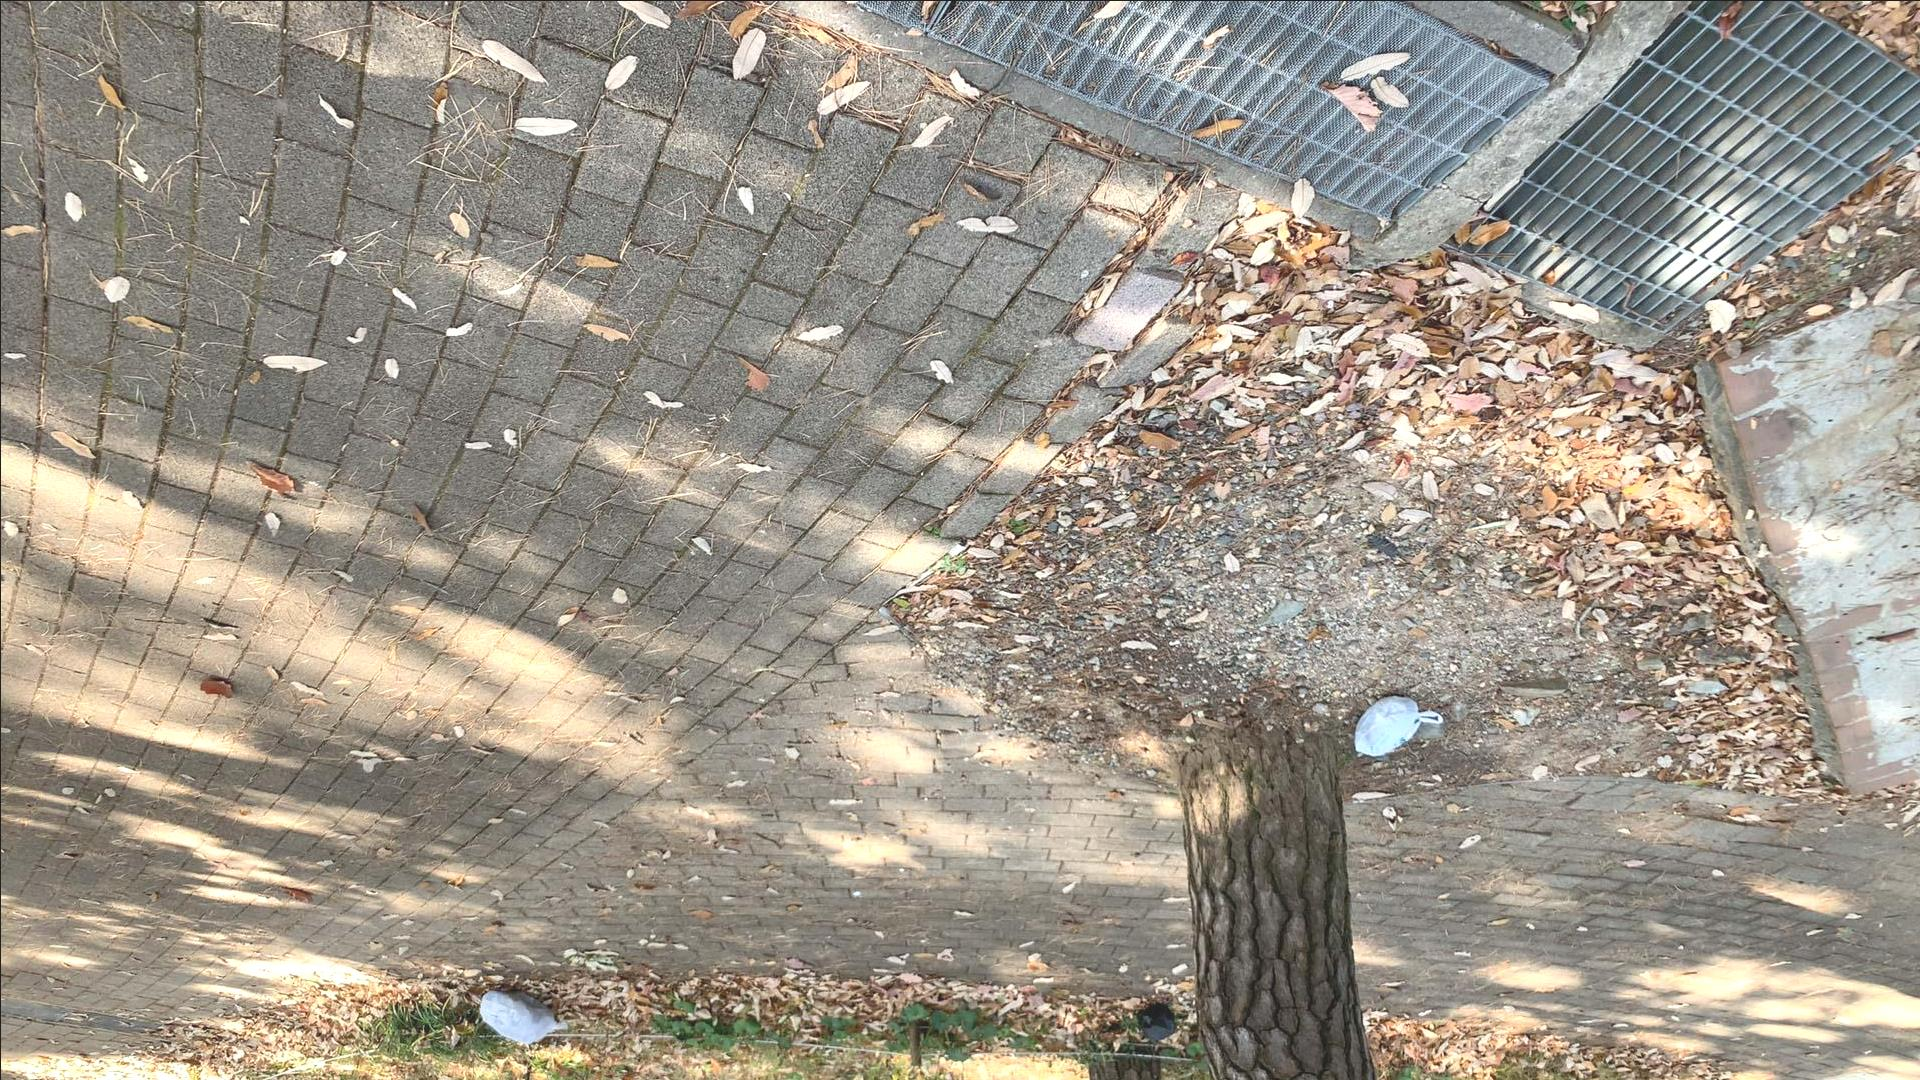white_bag: (1350, 690, 1448, 761)
